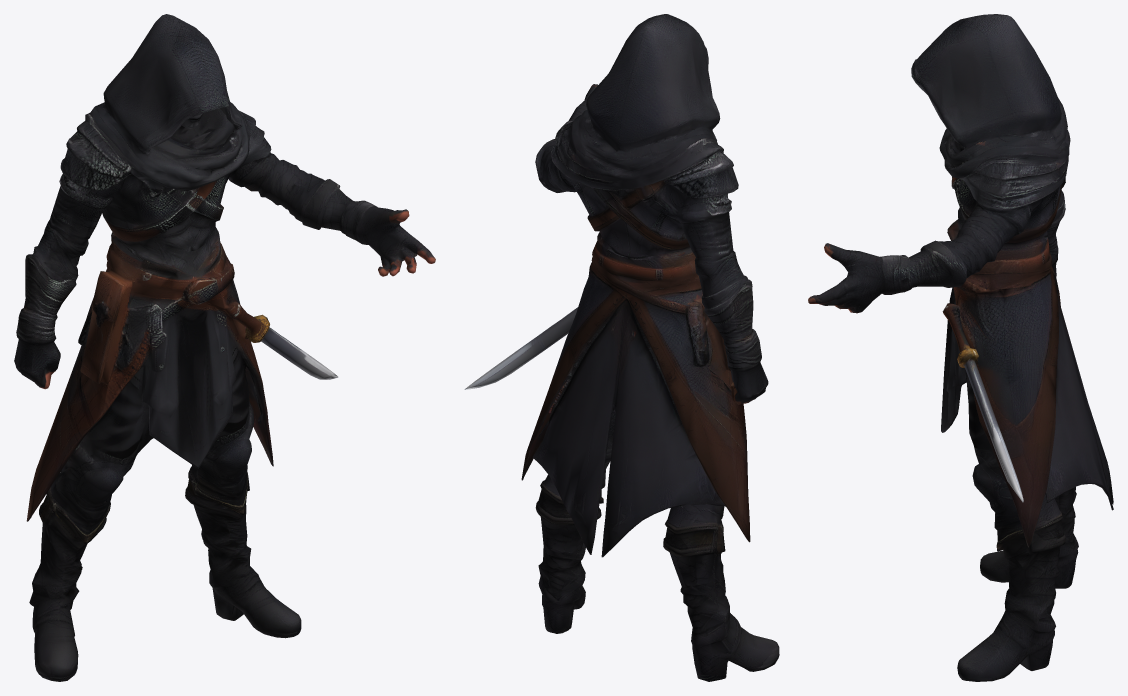
File: ravox.glb
3 views of the same model, side by side, from view 1: azimuth 30°, elevation 25°; view 2: azimuth 150°, elevation 25°; view 3: azimuth 270°, elevation 25° (orthographic). The views are drawn at different scales.
Size of the model in its own units: 0.9937 by 1.91 by 0.8626.
1 material, 1 textured.
